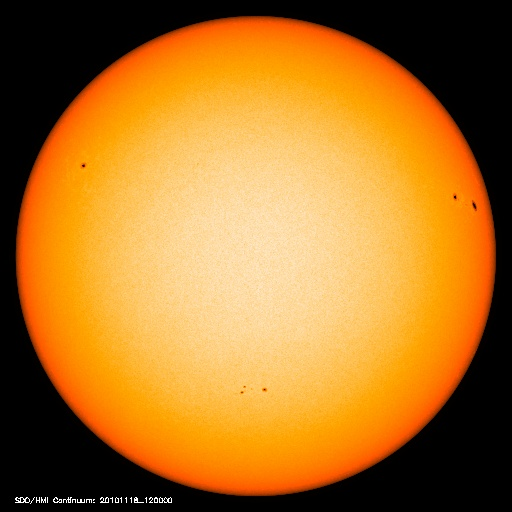sunspot: (445, 185, 485, 219), (233, 378, 277, 402), (70, 154, 95, 178)
